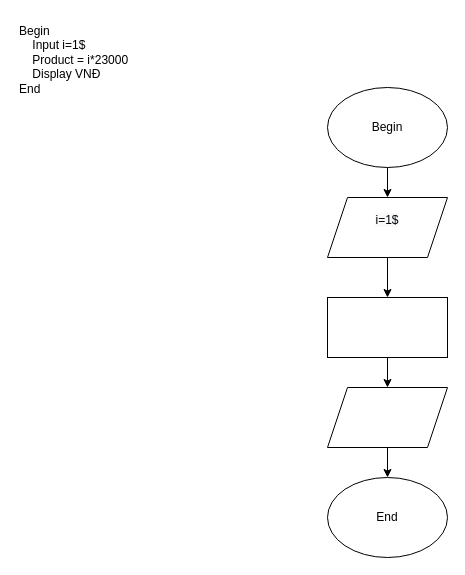
Some shapes in this 465 by 575 pixel diagram are drawn without their labels. Here are the shapes that lost their labels. From the top down, the centre of each, then its label:
point 387,327: Product = i*23000
point 387,417: Display VNĐ
